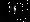person: (10, 4, 16, 16)
